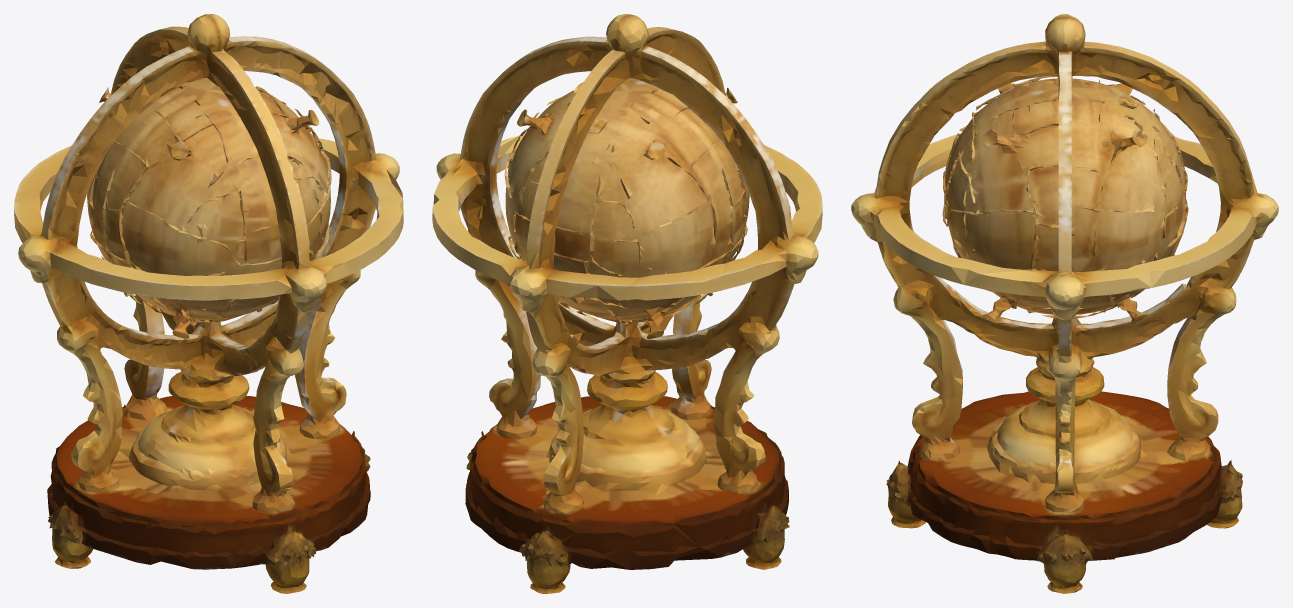
Rendered from renaissance_armillary.glb.
3 views of the same model, side by side, from view 1: azimuth 30°, elevation 25°; view 2: azimuth 150°, elevation 25°; view 3: azimuth 270°, elevation 25° (orthographic).
Parts seen in each view (by area): view 1: renaissance_armillary; view 2: renaissance_armillary; view 3: renaissance_armillary.
Boxes of the visible parts, x1,y1,x2,y2 form: renaissance_armillary: [14, 14, 403, 593]; renaissance_armillary: [432, 14, 822, 593]; renaissance_armillary: [851, 14, 1278, 593].
Size of the model in its own units: 1.46 by 1.9 by 1.45.
1 material, 1 textured.
